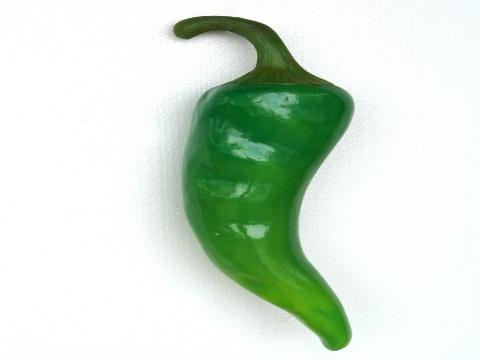Chilli: (149, 10, 398, 354)
